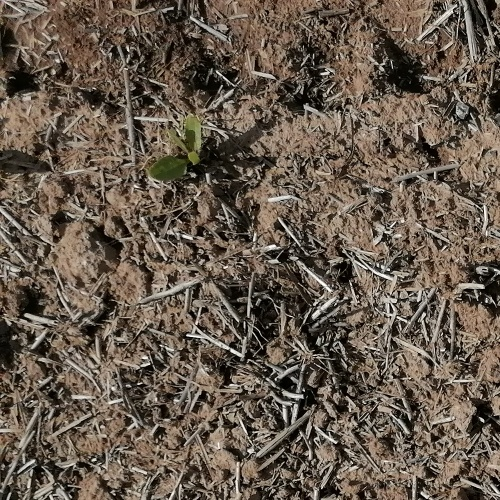beet: (147, 114, 205, 183)
